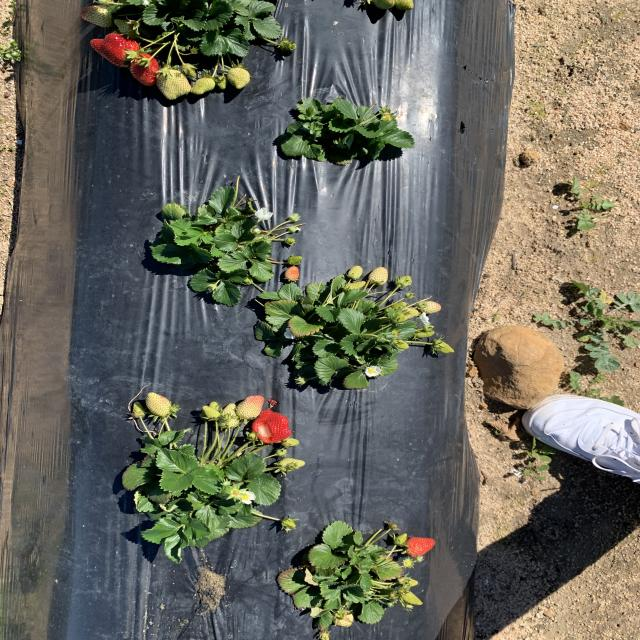unripe: (87, 32, 141, 68), (251, 408, 293, 444), (128, 55, 162, 86), (405, 537, 435, 556)
